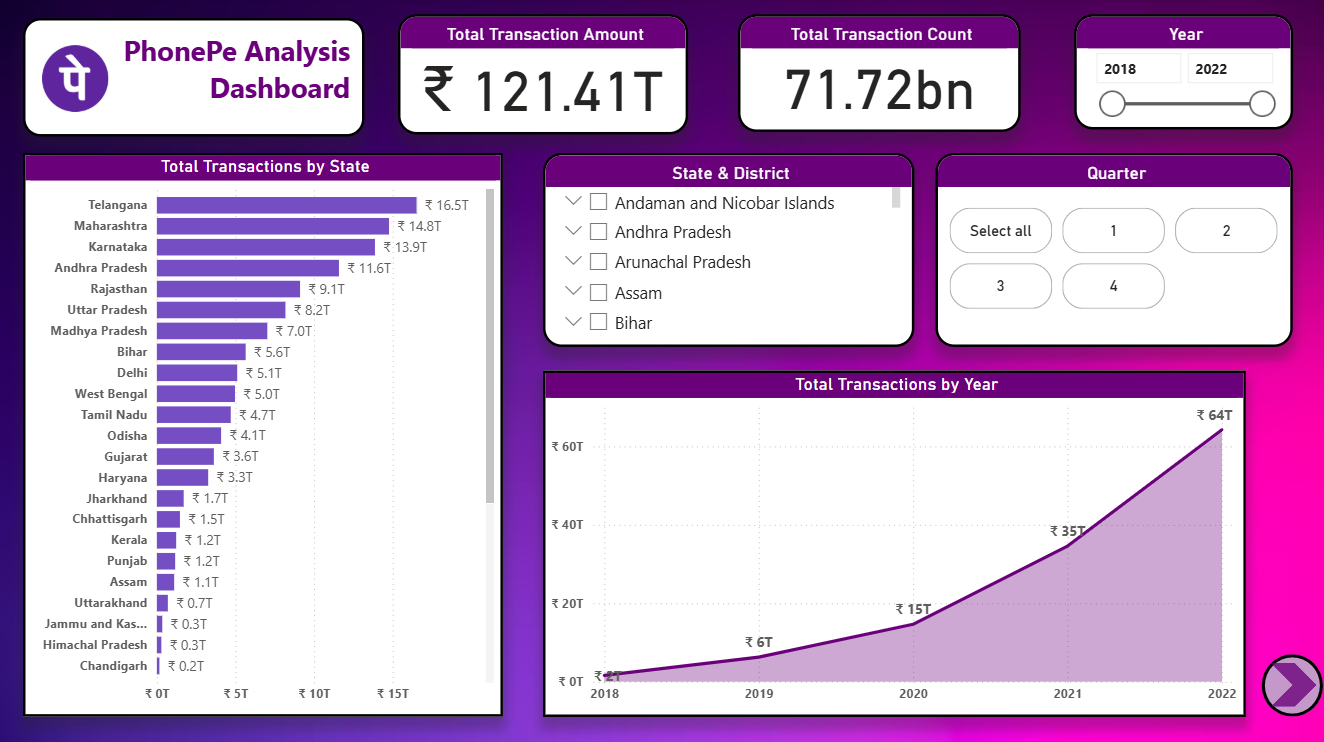

What the dashboard file says about the page in this screenshot:
{"tool":"powerbi","page":{"name":"Page 1","canvas":[1280,720],"ordinal":0},"visuals":[{"type":"textbox","box":[24.1,19.3,329.4,114.6],"z":0},{"type":"card","title":"Total Transaction Amount","fields":{"Values":["Sum(agg_trans.Transaction_amount)"]},"box":[386.1,15.7,279.9,115.8],"z":1000},{"type":"card","title":"Total Transaction Count","fields":{"Values":["Sum(agg_trans.Transaction_count)"]},"box":[714.2,15.7,272.7,113.4],"z":2000},{"type":"slicer","title":"Year","fields":{"Values":["agg_trans.Year"]},"box":[1038.7,15.7,211.1,111],"z":3000},{"type":"barChart","title":"Total Transactions by State","fields":{"Y":["Sum(agg_trans.Transaction_amount)"],"Category":["agg_trans.State"]},"box":[24.1,149.6,463.3,544.1],"z":4000},{"type":"advancedSlicerVisual","fields":{"Values":["agg_trans.Quarter"]},"box":[904.8,149.6,345,187],"z":5000},{"type":"lineChart","title":"Total Transactions by Year","fields":{"Y":["Sum(agg_trans.Transaction_amount)"],"Category":["agg_trans.Year"]},"box":[526,359.5,678,334.2],"z":6000},{"type":"slicer","title":"State & District","fields":{"Values":["map_trans.State","map_trans.District"]},"box":[526,149.6,358.3,187],"z":7000},{"type":"image","box":[24.1,24.1,101.3,107.4],"z":8000},{"type":"shape","box":[1219.7,633.4,59.1,60.3],"z":9000},{"type":"shape","box":[1228.2,641.8,44.6,42.2],"z":10000}]}

Visuals, with their boxes in screenshot pixels (x1, y1, x2, y2), scaled from the page's 1280x720 canvas onto the 1324x742 screenshot:
textbox: select_region(25, 20, 366, 138)
"Total Transaction Amount" card: select_region(399, 16, 689, 136)
"Total Transaction Count" card: select_region(739, 16, 1021, 133)
"Year" slicer: select_region(1074, 16, 1293, 131)
"Total Transactions by State" barChart: select_region(25, 154, 504, 715)
advancedSlicerVisual - agg_trans.Quarter: select_region(936, 154, 1293, 347)
"Total Transactions by Year" lineChart: select_region(544, 370, 1245, 715)
"State & District" slicer: select_region(544, 154, 915, 347)
image: select_region(25, 25, 130, 136)
shape: select_region(1262, 653, 1323, 715)
shape: select_region(1270, 661, 1317, 705)
